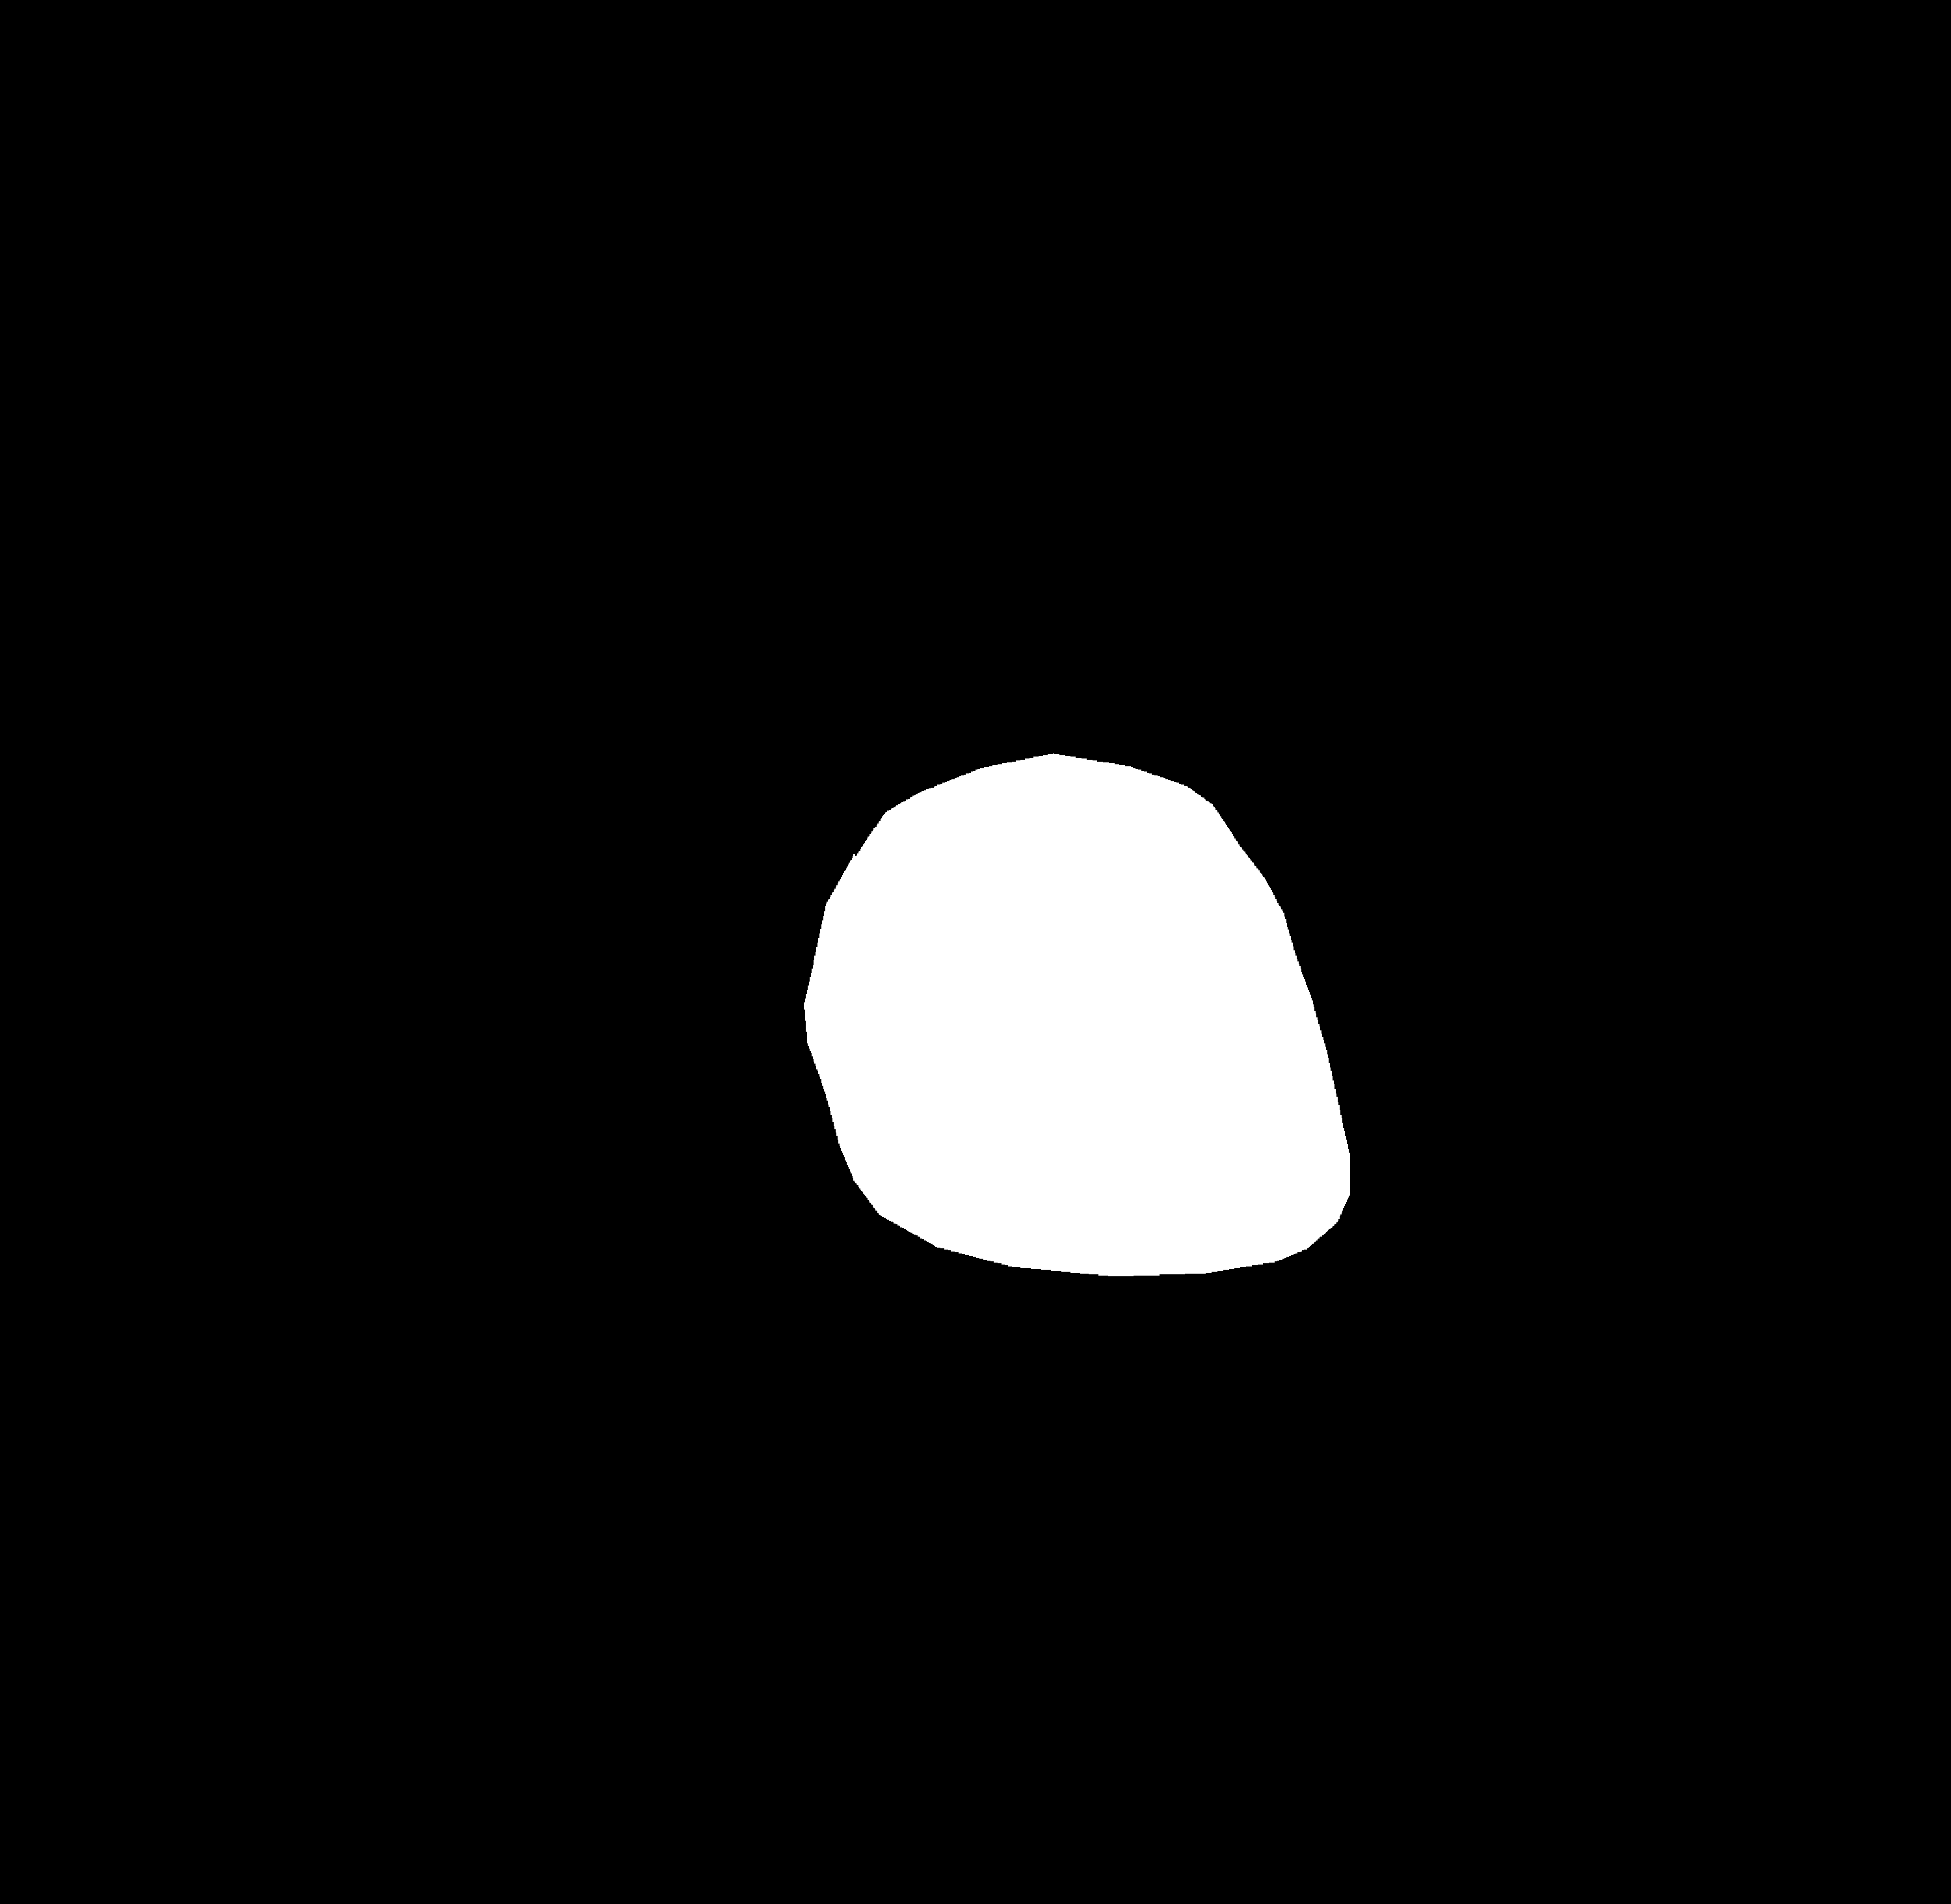heart: (802, 800, 1365, 1370)
left_lung: (373, 169, 908, 1418)
right_lung: (1037, 153, 1587, 1404)
